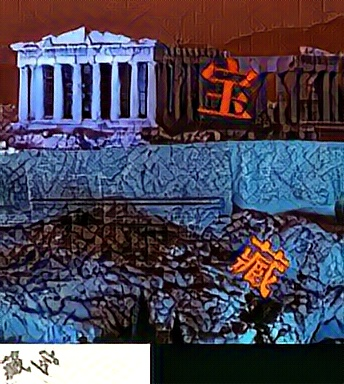B1A6: (194, 54, 257, 121)
B2D8: (230, 231, 293, 298)
